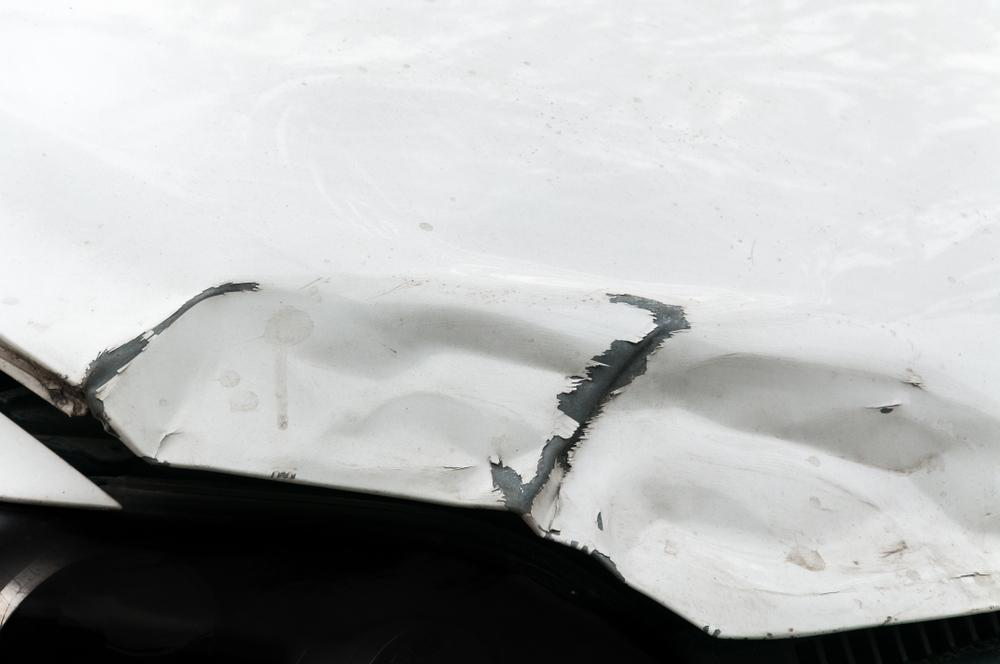dent: (74, 274, 647, 510), (586, 343, 1000, 638)
scratch: (490, 284, 693, 541)
